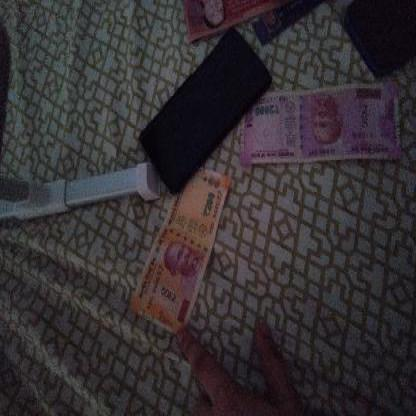New2000Front: (245, 80, 403, 159)
New200Front: (130, 172, 226, 331)
